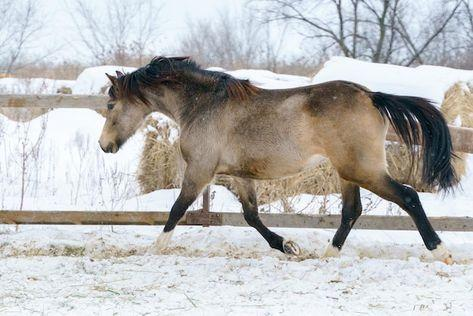horse: (96, 54, 463, 264)
